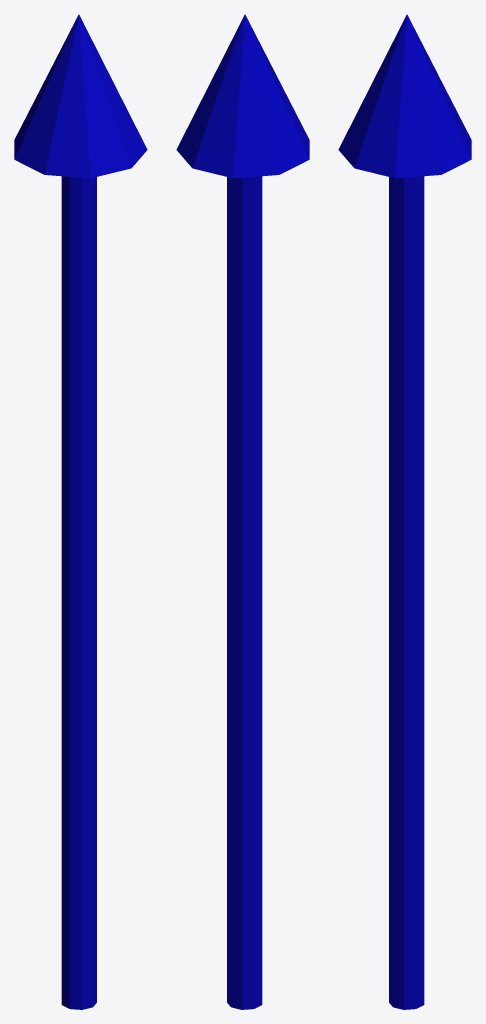
Rendered from normal.obj.
3 renders of one model, left to right at view 1: azimuth 30°, elevation 25°; view 2: azimuth 210°, elevation 25°; view 3: azimuth 330°, elevation 25°, orthographic.
Parts seen in each view (by area): view 1: Cylinder_Cylinder.001; view 2: Cylinder_Cylinder.001; view 3: Cylinder_Cylinder.001.
Boxes of the visible parts, x1,y1,x2,y2 form: Cylinder_Cylinder.001: (14,14,147,1009); Cylinder_Cylinder.001: (176,14,309,1009); Cylinder_Cylinder.001: (338,14,471,1009).
Size of the model in its own units: 0.2167 by 1.75 by 0.2134.
